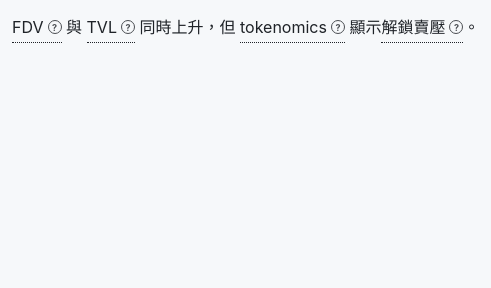
Test: AnnotatedText › annotates report glossary terms with accessible popovers
expect the button "TVL ?" is shown: met, box [86, 12, 135, 43]
expect the button "tokenomics ?" is shown: met, box [240, 12, 345, 43]
Click the button "FDV ?" at (37, 28), box [12, 12, 62, 43]
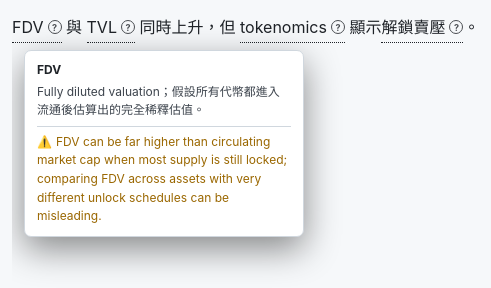
expect the text "Fully diluted valuation" is shown: met, box [37, 84, 280, 117]
